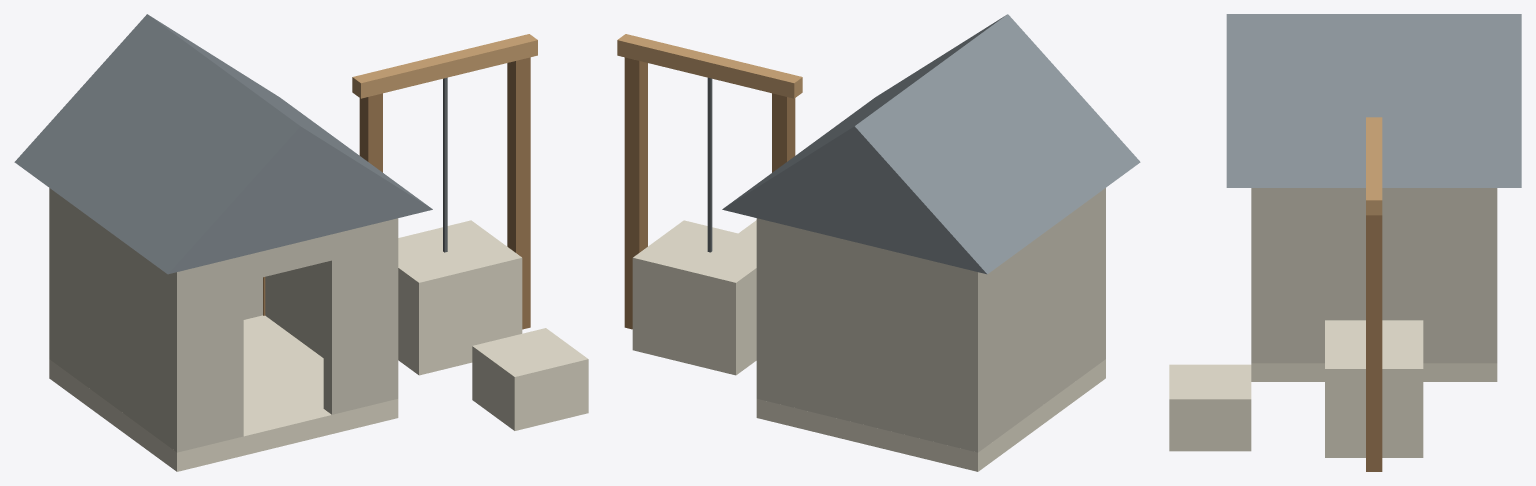
Rendered from quarry-office.glb.
3 renders of one model, left to right at view 1: azimuth 30°, elevation 25°; view 2: azimuth 150°, elevation 25°; view 3: azimuth 270°, elevation 25°, orthographic. The views are drawn at different scales.
Visible parts, largest first — view 1: quarry-office; view 2: quarry-office; view 3: quarry-office.
Boxes of the visible parts, box(x1,y1,x2,y2) form: quarry-office: box(14, 14, 588, 471); quarry-office: box(617, 14, 1140, 471); quarry-office: box(1169, 14, 1521, 471).
Bounding box in the file's own units: 6 × 4.25 × 4.3.
